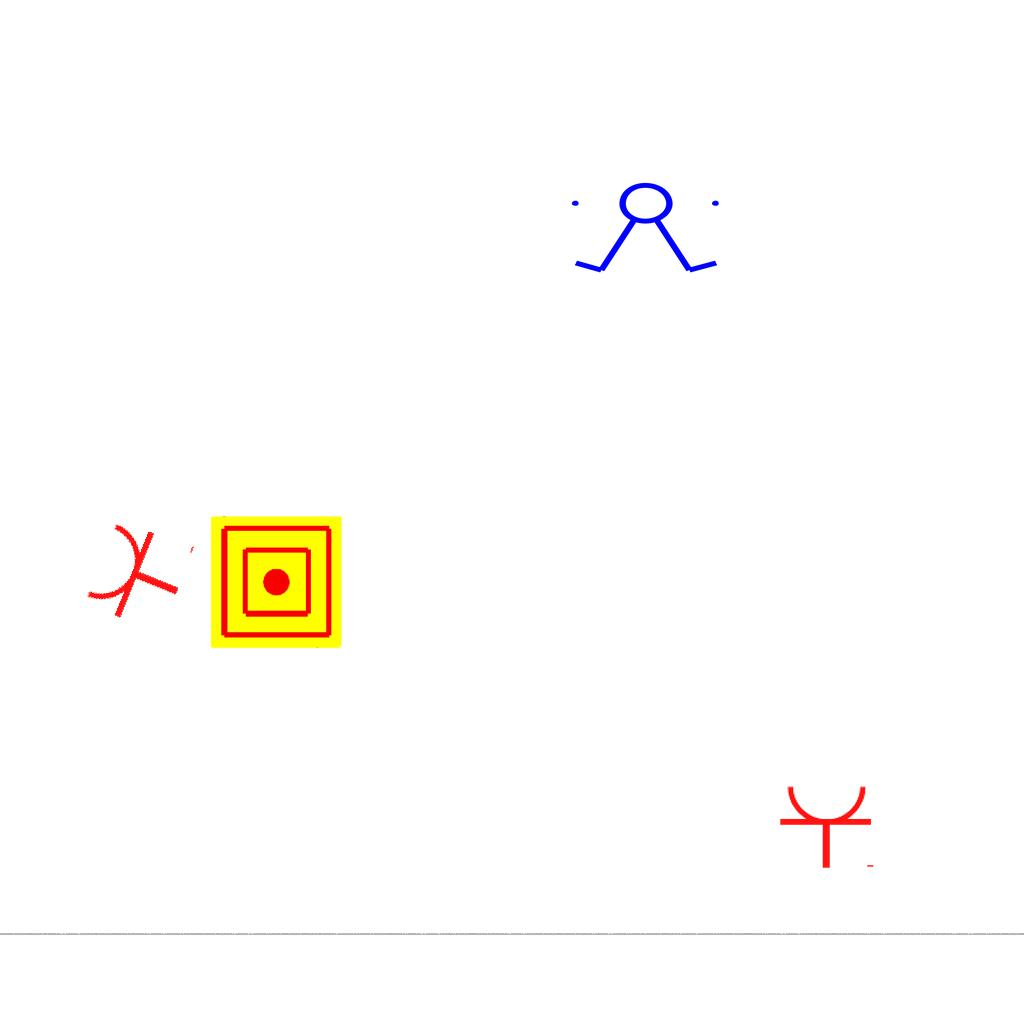NAM-Nichtautomatischer_Melder: (210, 516, 342, 648)
Schukosteckdose_einfach: (80, 511, 199, 637), (778, 783, 878, 870)
Serienschalter: (563, 181, 731, 277)
